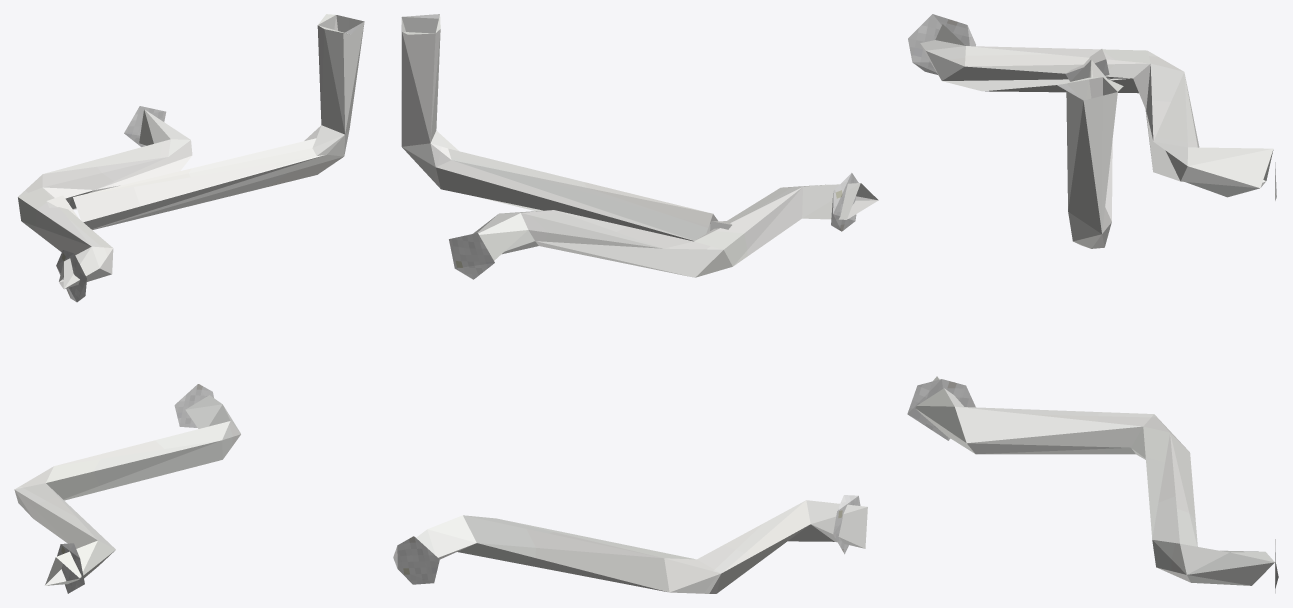
File: zyyg005-geode.glb
3 renders of one model, left to right at view 1: azimuth 30°, elevation 25°; view 2: azimuth 150°, elevation 25°; view 3: azimuth 270°, elevation 25°, orthographic. The views are drawn at different scales.
Parts seen in each view (by area): view 1: Node; view 2: Node; view 3: Node.
Boxes of the visible parts, left/top/right/bottom form: Node: left=14, top=14, right=364, bottom=593; Node: left=393, top=14, right=878, bottom=593; Node: left=907, top=14, right=1278, bottom=593.
Size of the model in its own units: 2.88 by 3.31 by 2.01.
1 material, 1 textured.
